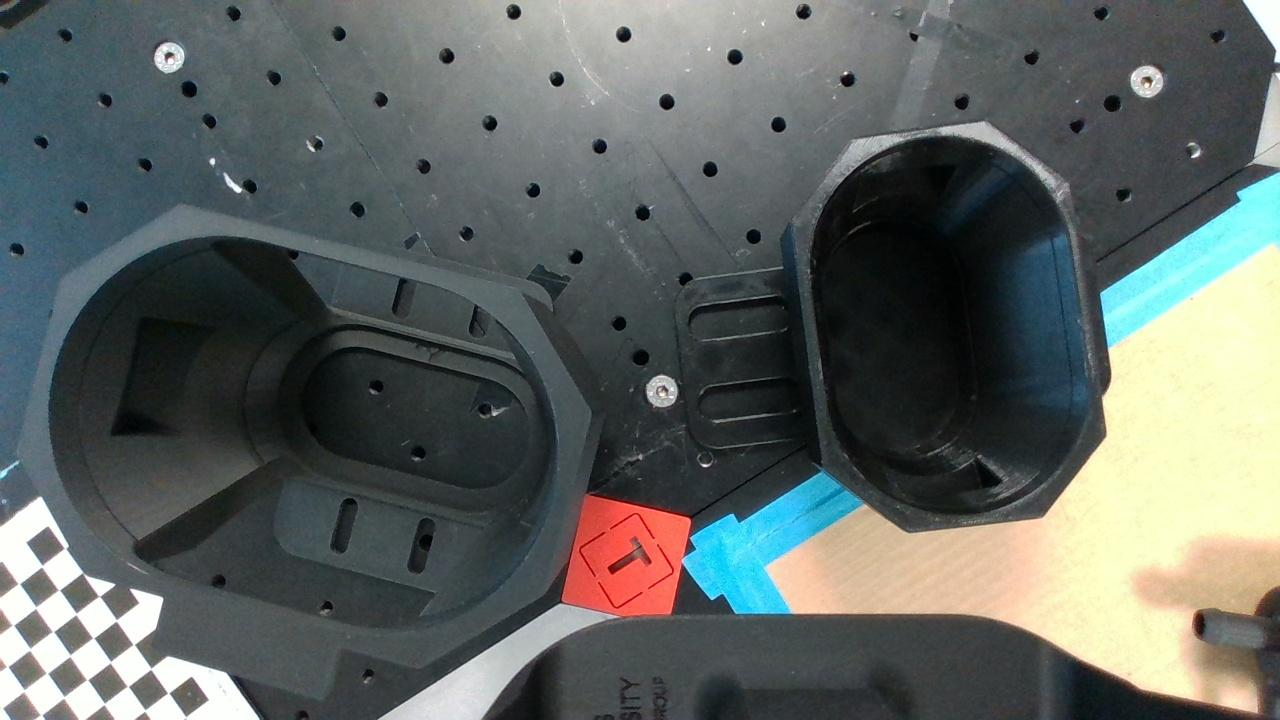big_interface: (17, 203, 594, 670)
small_interface: (791, 121, 1108, 535)
